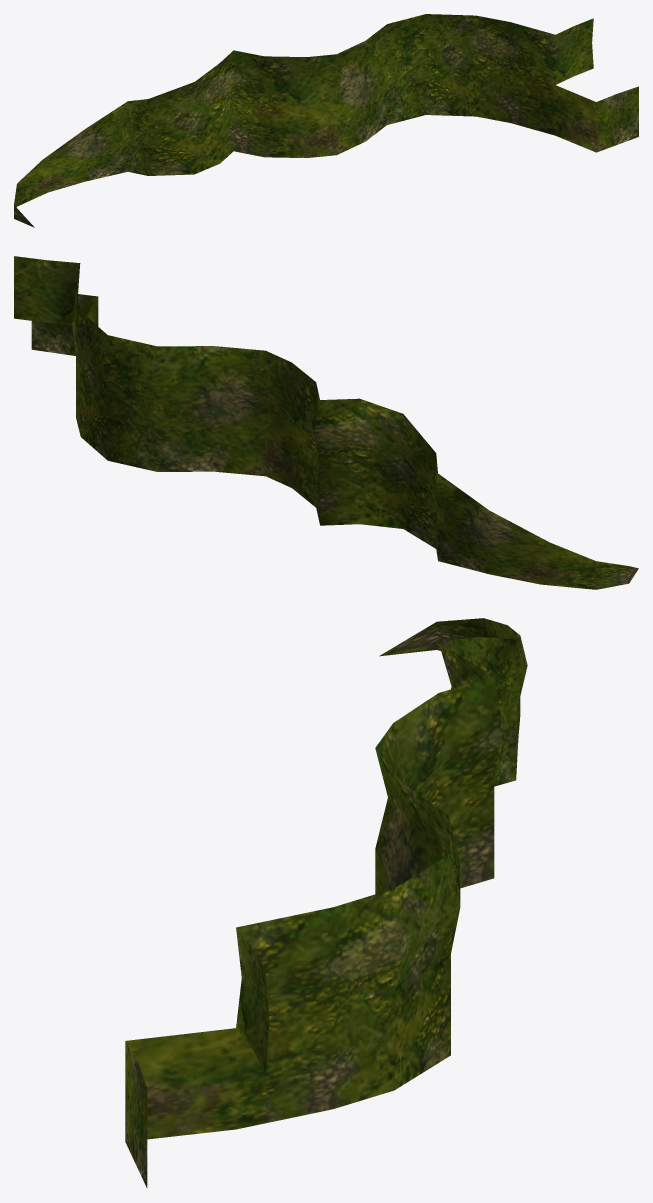
Rendered from OVERHILL_A_01_OBJECT59.fbx.
3 views of the same model, one above another, from view 1: azimuth 30°, elevation 25°; view 2: azimuth 150°, elevation 25°; view 3: azimuth 270°, elevation 25° (orthographic). The views are drawn at different scales.
Parts seen in each view (by area): view 1: OVERHILL_A_01_OBJECT59; view 2: OVERHILL_A_01_OBJECT59; view 3: OVERHILL_A_01_OBJECT59.
Part boxes in pixels (box(x1,y1,x2,y2)): OVERHILL_A_01_OBJECT59: box(14, 14, 638, 227); OVERHILL_A_01_OBJECT59: box(14, 256, 638, 589); OVERHILL_A_01_OBJECT59: box(125, 618, 527, 1188).
Bounding box in the file's own units: 114815 × 20051 × 36198.
Materials: 1 (1 with a texture image).
